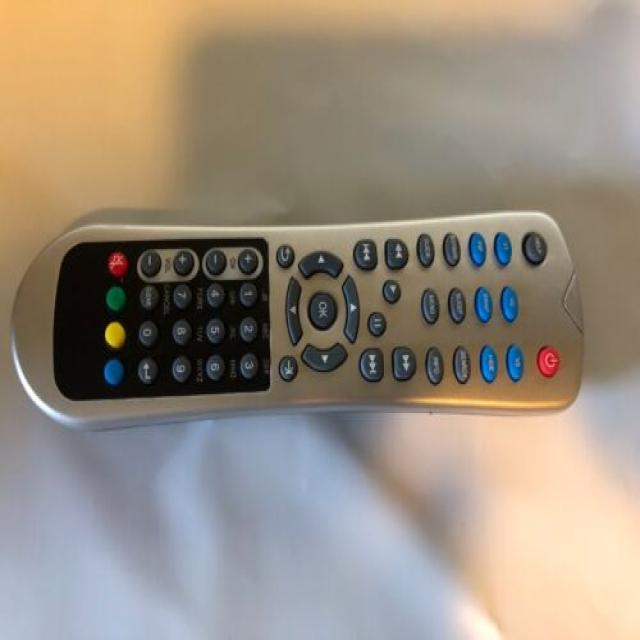remote: (10, 212, 585, 440)
